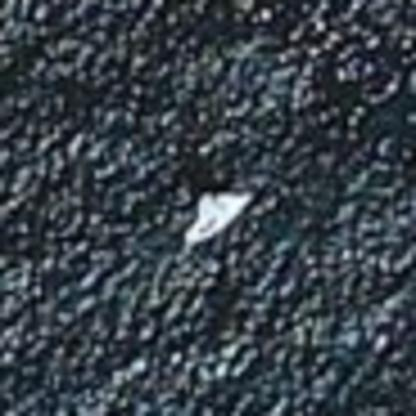ship: (170, 180, 262, 256)
